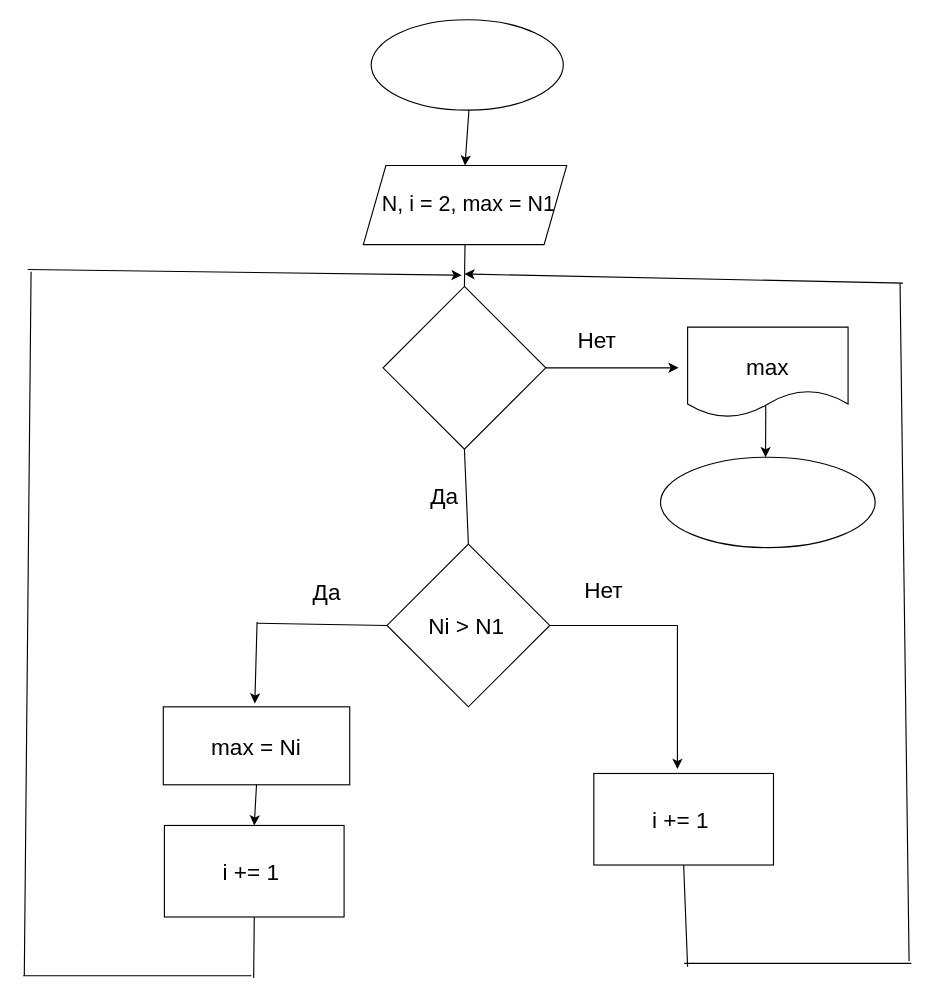
This 932x999 diagram has some shape labels left out. Each missing label, with the centre of its shape:
while i <= N: (x=464, y=367)
Конец: (x=767, y=502)
Начало: (x=466, y=64)
